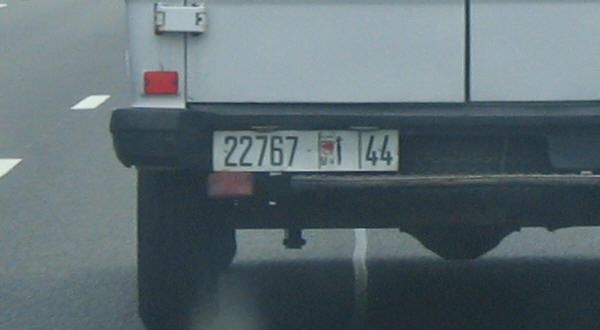number_plate: (213, 129, 401, 173)
